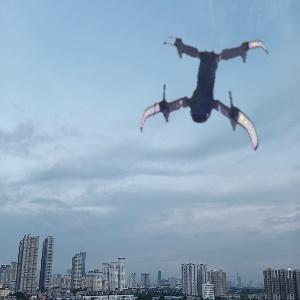drone: (137, 32, 274, 169)
